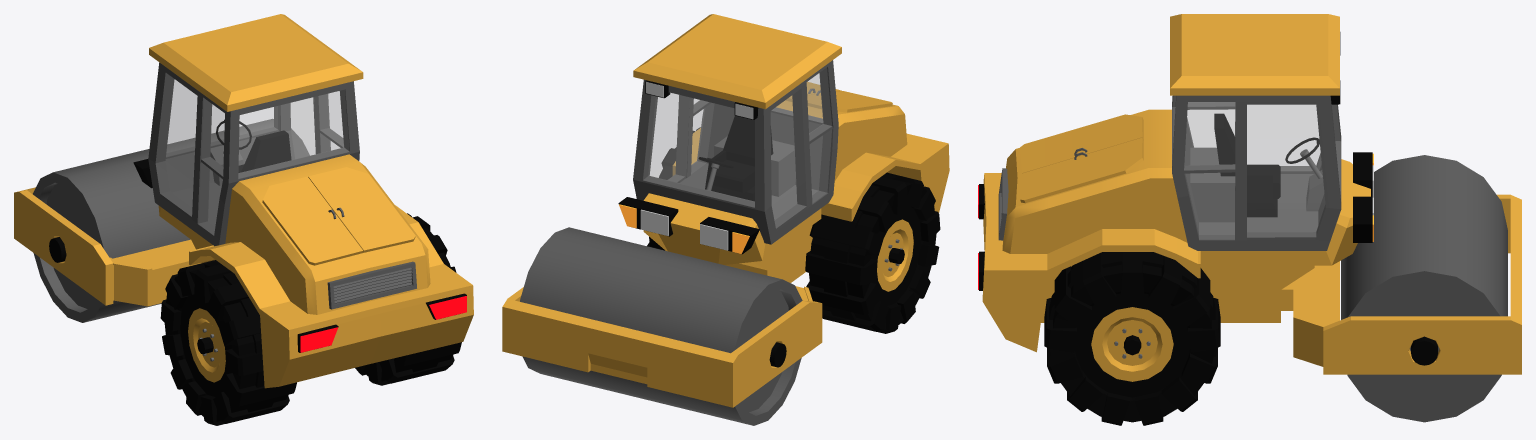
The model's file is roller.fbx.
3 views of the same model, side by side, from view 1: azimuth 30°, elevation 25°; view 2: azimuth 150°, elevation 25°; view 3: azimuth 270°, elevation 25° (orthographic). The views are drawn at different scales.
Parts seen in each view (by area): view 1: Cube.013, Cylinder, Cube.016, Cube, Cube.014, Cube.022, Cylinder.005, Cube.004, Cube.009, Cylinder.001, Cube.007, Cube.011 (+13 smaller); view 2: Cylinder, Cube.009, Cube, Cube.016, Cylinder.005, Cube.001, Cube.013, Cylinder.001, Cube.007, Cube.015, Cube.014, Cube.012 (+10 smaller); view 3: Cylinder, Cube.016, Cube.009, Cube.014, Cube, Wheel.Rear.Left|Cylinder.005|Dupli|4, Cube.013, Wheel.Rear.Left|Cylinder.001|Dupli|, Cube.007, Cube.022, Cube.006, Roller (+11 smaller).
Boxes of the visible parts, x1=… form: Cube.013: x1=189, y1=205, x2=473, y2=388; Cylinder: x1=33, y1=119, x2=309, y2=322; Cube.016: x1=149, y1=14, x2=363, y2=111; Cube: x1=148, y1=62, x2=359, y2=246; Cube.014: x1=225, y1=154, x2=430, y2=314; Cube.022: x1=262, y1=167, x2=415, y2=265; Cylinder.005: x1=160, y1=260, x2=296, y2=425; Cube.004: x1=238, y1=91, x2=344, y2=173; Cube.009: x1=14, y1=187, x2=113, y2=305; Cylinder.001: x1=164, y1=261, x2=288, y2=421; Cube.007: x1=165, y1=79, x2=314, y2=207; Cube.011: x1=110, y1=239, x2=201, y2=306; Cylinder: x1=520, y1=227, x2=802, y2=425; Cube.009: x1=502, y1=287, x2=822, y2=407; Cube: x1=633, y1=60, x2=838, y2=244; Cube.016: x1=633, y1=14, x2=841, y2=109; Cylinder.005: x1=805, y1=172, x2=940, y2=333; Cube.001: x1=648, y1=93, x2=754, y2=202; Cube.013: x1=672, y1=128, x2=949, y2=221; Cylinder.001: x1=809, y1=173, x2=936, y2=329; Cube.007: x1=650, y1=93, x2=797, y2=219; Cube.015: x1=643, y1=193, x2=821, y2=264; Cube.014: x1=776, y1=100, x2=907, y2=180; Cube.012: x1=618, y1=197, x2=759, y2=254; Cylinder: x1=1341, y1=155, x2=1507, y2=422; Cube.016: x1=1170, y1=14, x2=1339, y2=95; Cube.009: x1=1323, y1=194, x2=1521, y2=374; Cube.014: x1=1002, y1=109, x2=1187, y2=253; Cube: x1=1172, y1=95, x2=1341, y2=250; Wheel.Rear.Left|Cylinder.005|Dupli|4: x1=1044, y1=252, x2=1220, y2=425; Cube.013: x1=982, y1=173, x2=1200, y2=352; Wheel.Rear.Left|Cylinder.001|Dupli|: x1=1047, y1=252, x2=1217, y2=422; Cube.007: x1=1247, y1=104, x2=1324, y2=232; Cube.022: x1=1020, y1=114, x2=1143, y2=203; Cube.006: x1=1184, y1=102, x2=1235, y2=234; Roller: x1=1041, y1=251, x2=1314, y2=322.
Bounding box in the file's own units: 366 × 427 × 651.
